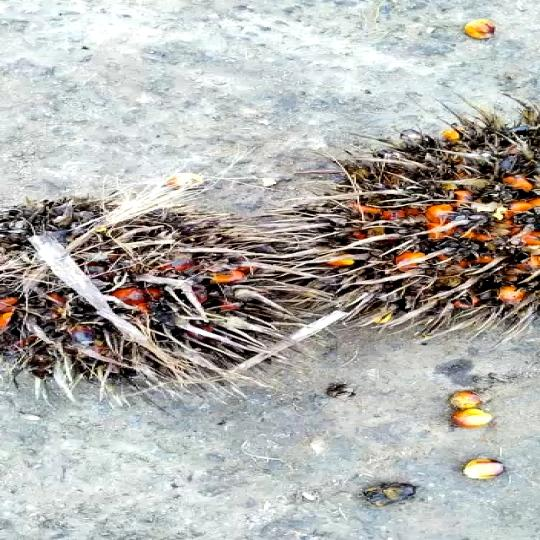terlalu masak: (0, 188, 331, 360)
